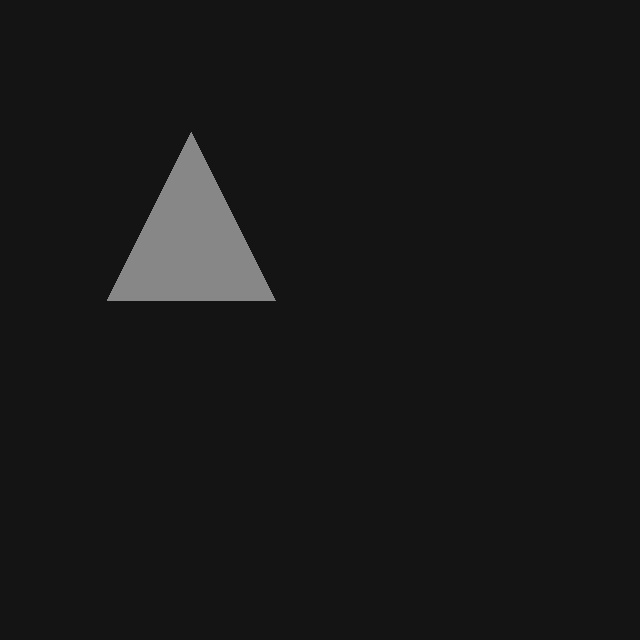triangle: (107, 132, 275, 300)
